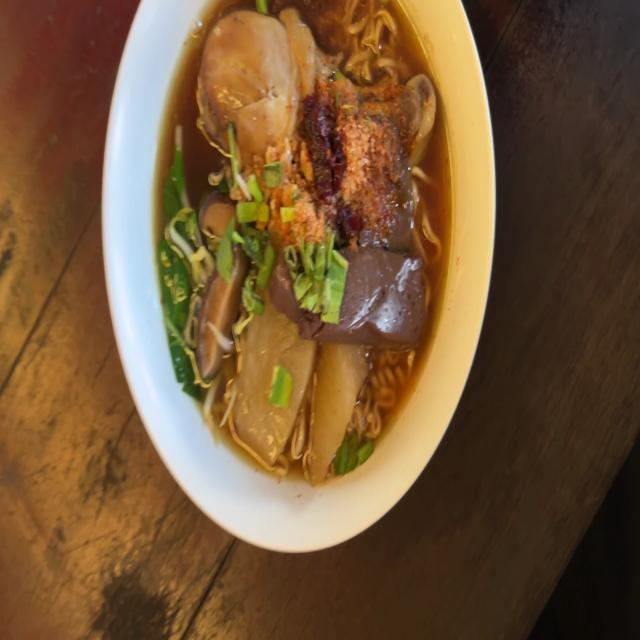noodle: (309, 249, 425, 348)
